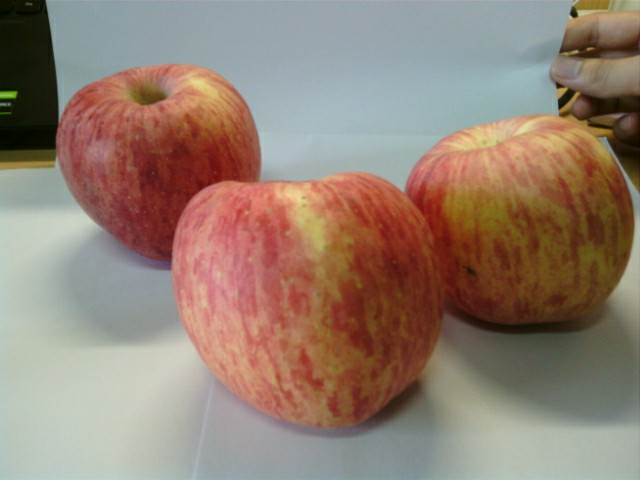normal_apple: (174, 176, 447, 430), (408, 114, 635, 333), (57, 62, 261, 265)
